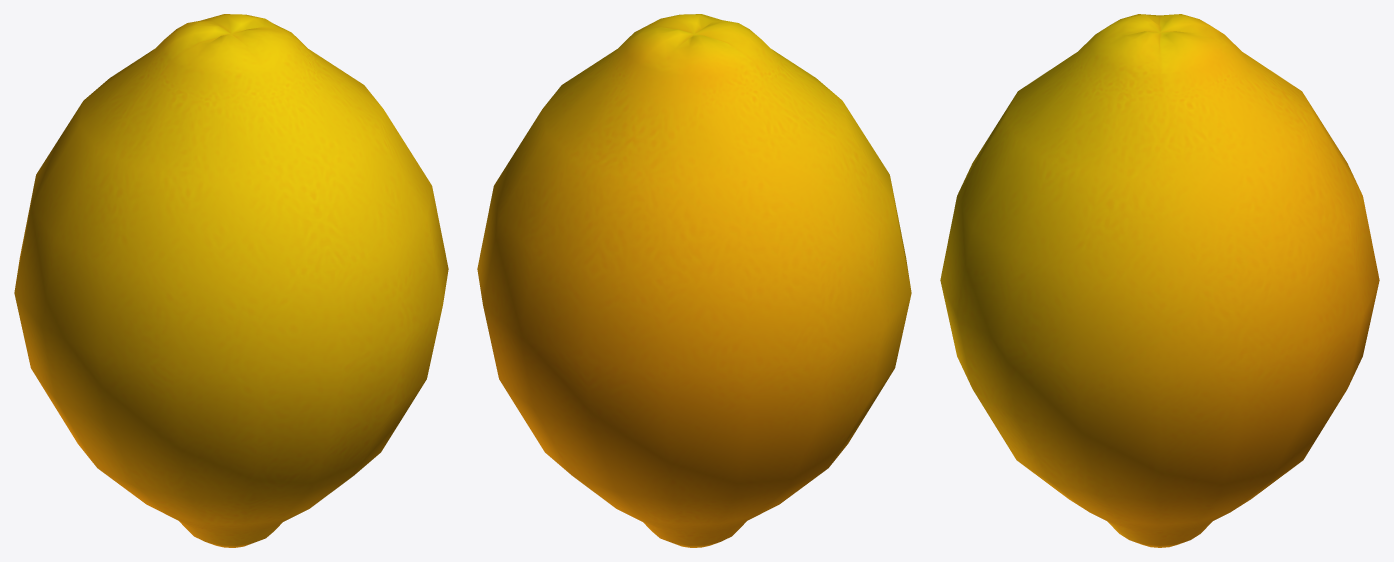
Rendered from lemon.glb.
3 renders of one model, left to right at view 1: azimuth 30°, elevation 25°; view 2: azimuth 150°, elevation 25°; view 3: azimuth 270°, elevation 25°, orthographic.
Visible parts, largest first — view 1: Lemon; view 2: Lemon; view 3: Lemon.
Boxes of the visible parts, box(x1,y1,x2,y2) form: Lemon: box(14, 14, 448, 547); Lemon: box(477, 14, 911, 547); Lemon: box(940, 14, 1379, 547).
Bounding box in the file's own units: 45.88 × 59.08 × 45.88.
1 material, 1 textured.
